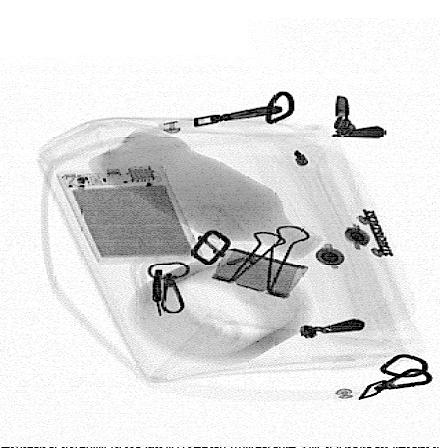Powerbank: (56, 164, 203, 265)
